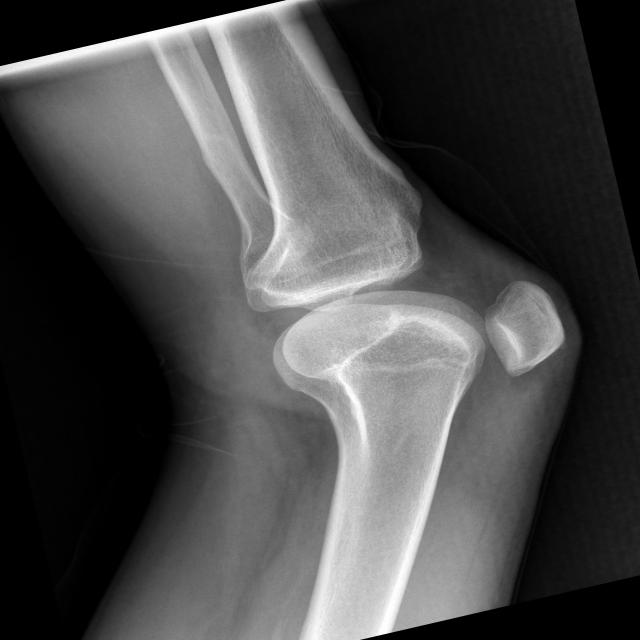Knee: (233, 190, 576, 442)
